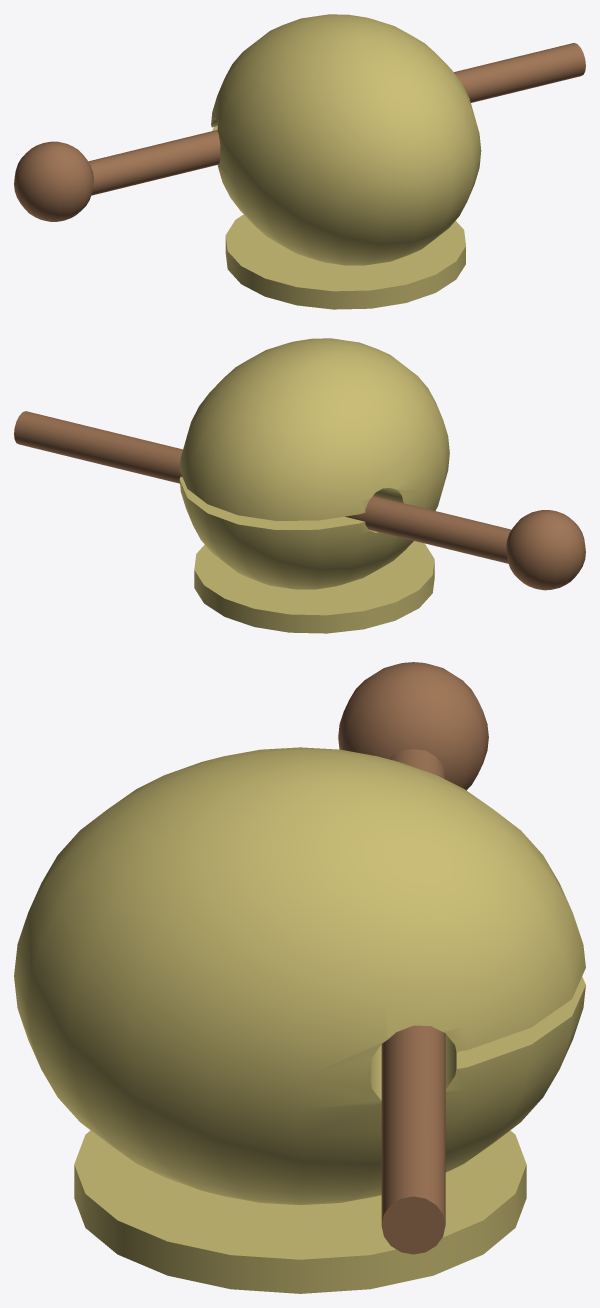
Rendered from wooden_fish_drum.fbx.
3 renders of one model, top to bottom at view 1: azimuth 30°, elevation 25°; view 2: azimuth 150°, elevation 25°; view 3: azimuth 270°, elevation 25°, orthographic. The views are drawn at different scales.
Parts seen in each view (by area): view 1: wooden_fish_drum1, stage, stick, stick_sphere; view 2: wooden_fish_drum1, stage, stick, stick_sphere; view 3: wooden_fish_drum1, stage, stick, stick_sphere.
Part boxes in pixels (x1=…): wooden_fish_drum1: x1=211, y1=14, x2=481, y2=265; stage: x1=225, y1=214, x2=465, y2=309; stick: x1=88, y1=43, x2=585, y2=195; stick_sphere: x1=14, y1=141, x2=93, y2=221; wooden_fish_drum1: x1=179, y1=338, x2=449, y2=589; stage: x1=194, y1=541, x2=434, y2=633; stick: x1=14, y1=411, x2=511, y2=563; stick_sphere: x1=506, y1=510, x2=585, y2=590; wooden_fish_drum1: x1=14, y1=747, x2=585, y2=1205; stage: x1=74, y1=1130, x2=526, y2=1293; stick: x1=381, y1=749, x2=445, y2=1254; stick_sphere: x1=338, y1=662, x2=488, y2=790.
Bounding box in the file's own units: 32 × 12.5 × 15.18.
